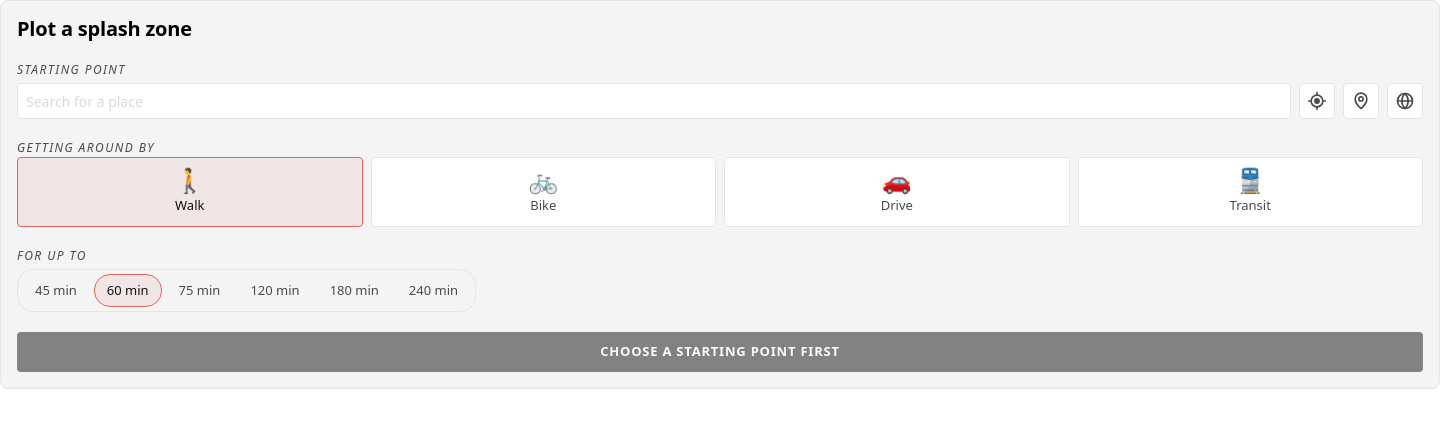
Test case: IsochroneForm › shows an error and does not fill fields when geolocation fails
The image size is (1440, 431).
Click the button with test id "use-current-location" at (1317, 101), box [1299,83,1335,119]
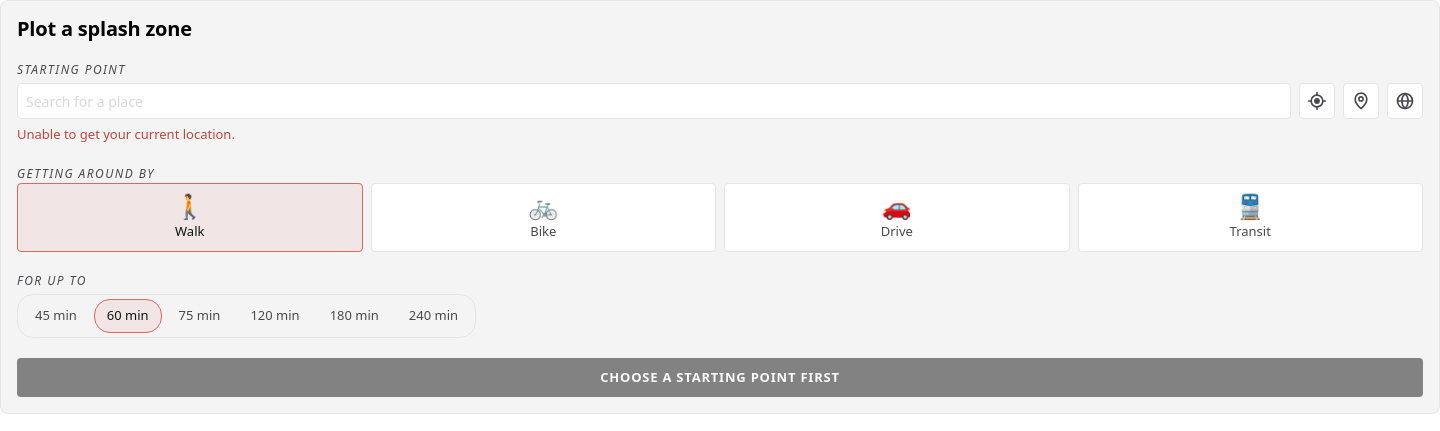
Check: the text "Unable to get your current location." is shown, box [17,125,235,143]
